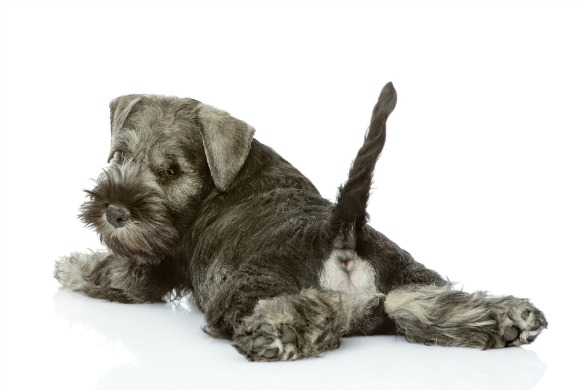tail: (334, 77, 398, 235)
